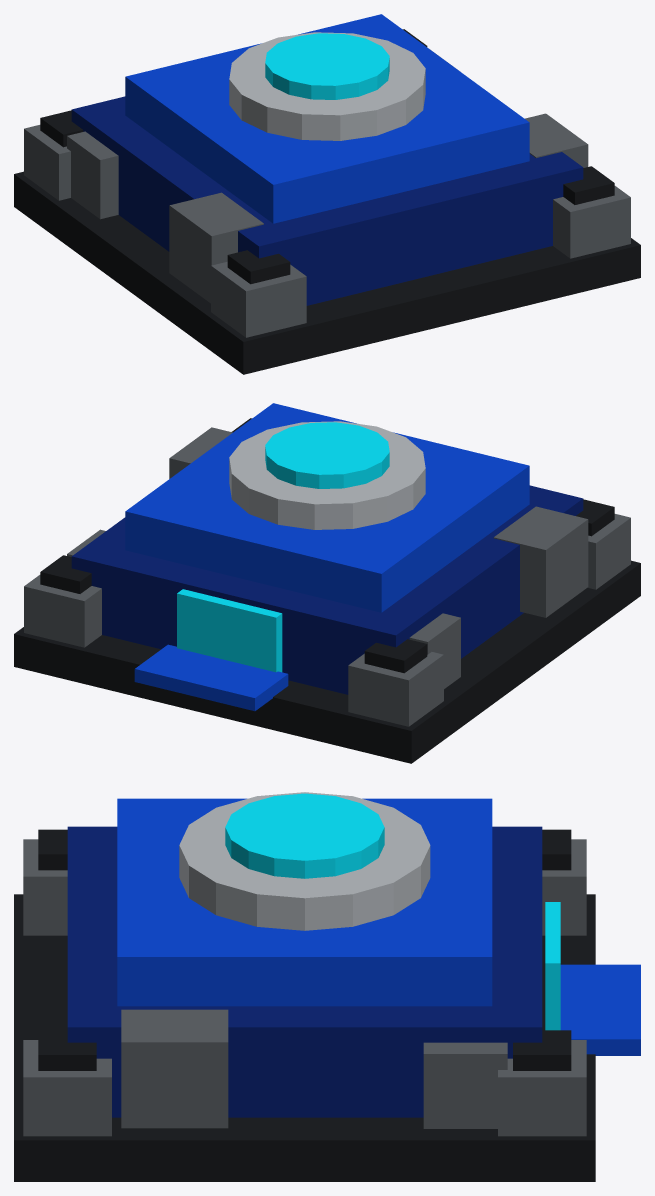
File: RTS_CommandCenter.obj
3 views of the same model, one above another, from view 1: azimuth 30°, elevation 25°; view 2: azimuth 150°, elevation 25°; view 3: azimuth 270°, elevation 25° (orthographic). The views are drawn at different scales.
Parts seen in each view (by area): view 1: RTS_CommandCenter; view 2: RTS_CommandCenter; view 3: RTS_CommandCenter.
Part boxes in pixels (<box>): RTS_CommandCenter: <box>14,14,640,374</box>; RTS_CommandCenter: <box>14,403,640,763</box>; RTS_CommandCenter: <box>14,792,640,1181</box>.
Size of the model in its own units: 3.8 by 1.67 by 4.09.
